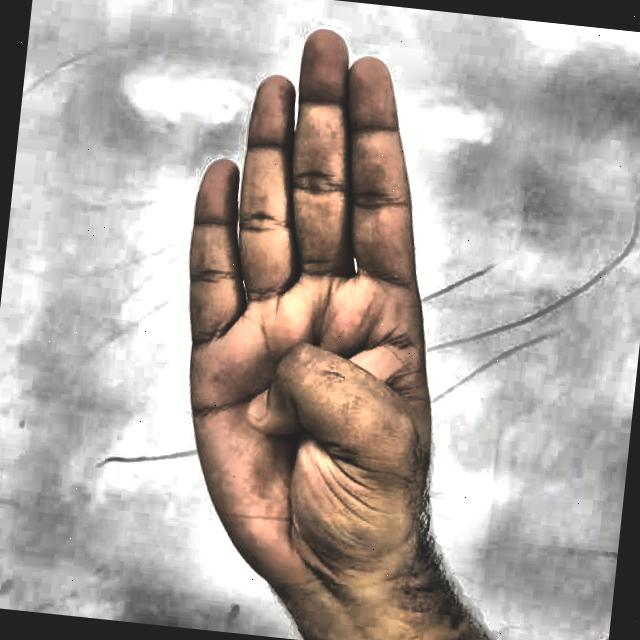Ba: (124, 4, 528, 640)
